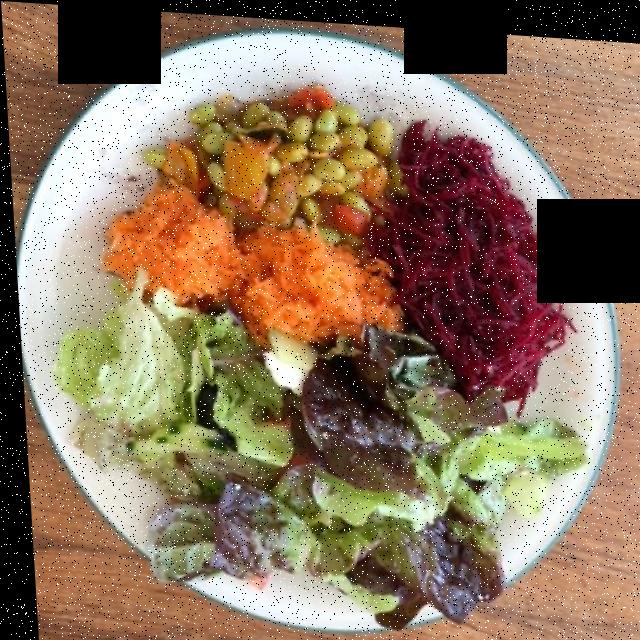beetroot-raw: (366, 117, 564, 411)
carrot-raw: (92, 175, 392, 342)
salad-leaf-salad-green: (73, 282, 574, 609)
